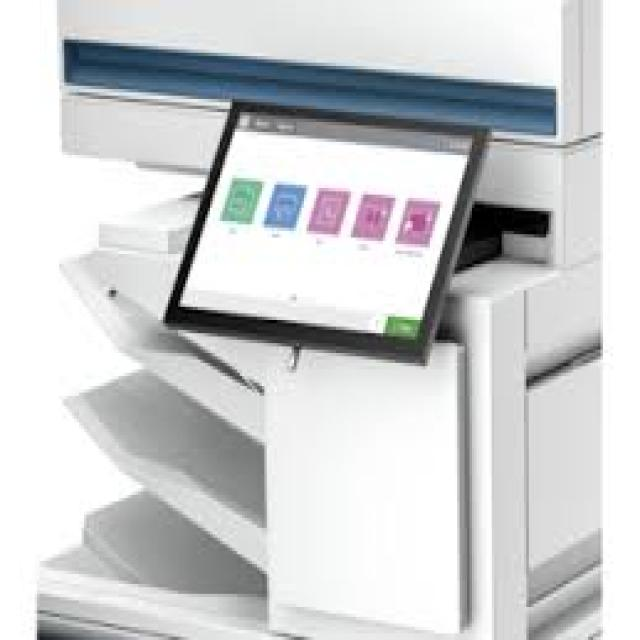printer: (32, 0, 606, 637)
